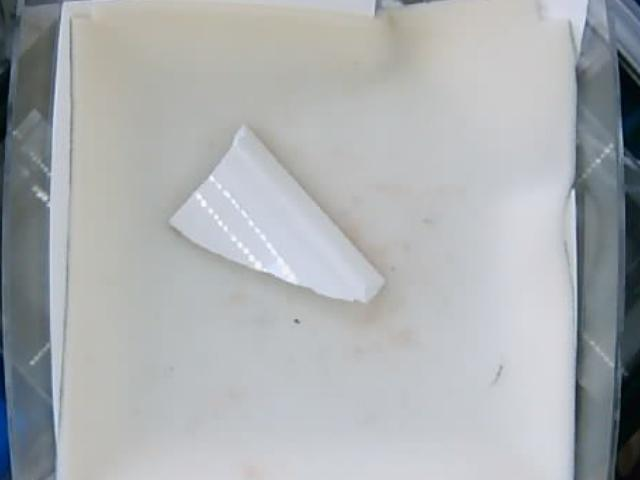China: (169, 124, 384, 308)
